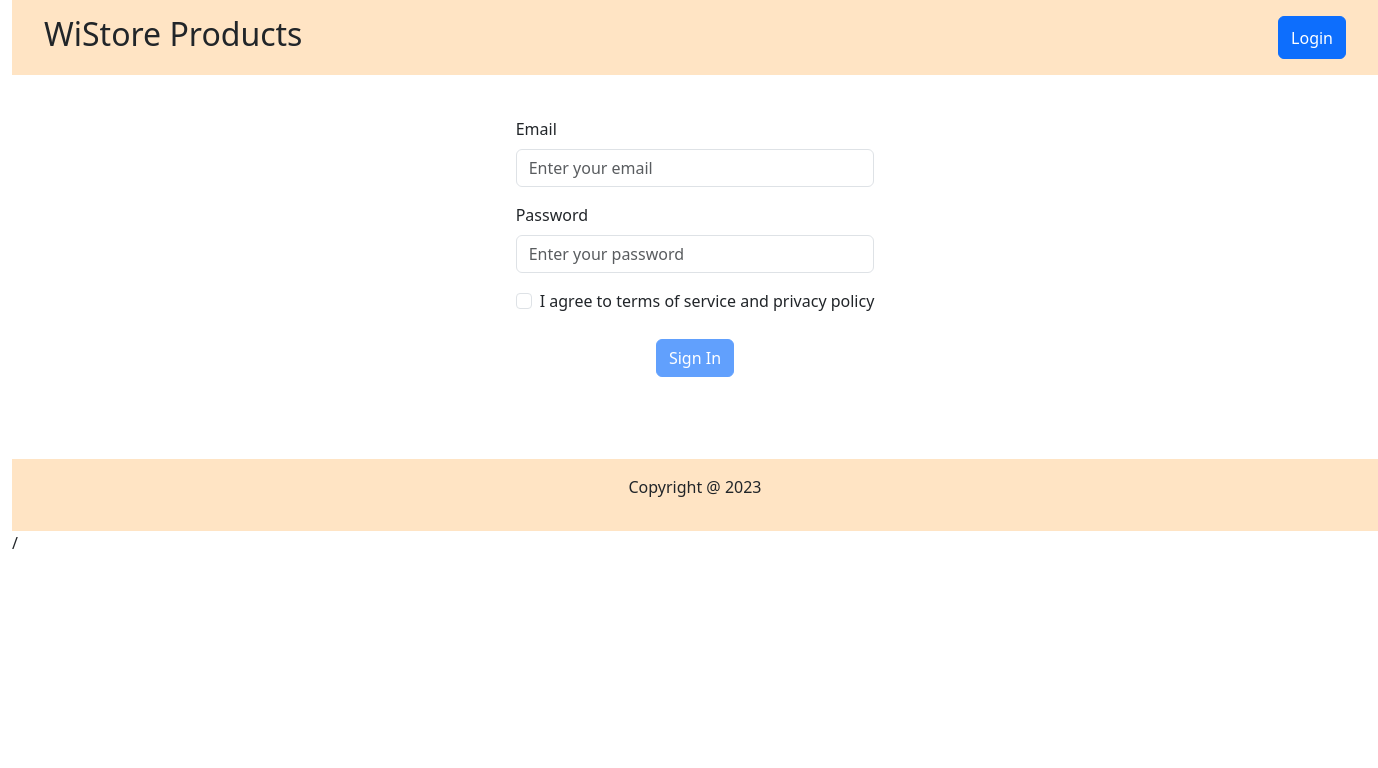
Test case: Input Hataları › Terms ilk önce check yapıp sonra checki kaldırınca buton disabled oluyor
Type "dsfdsf@sdfs.com" into the field with test id "email". click: (696, 168)
box: [516,149,875,187]
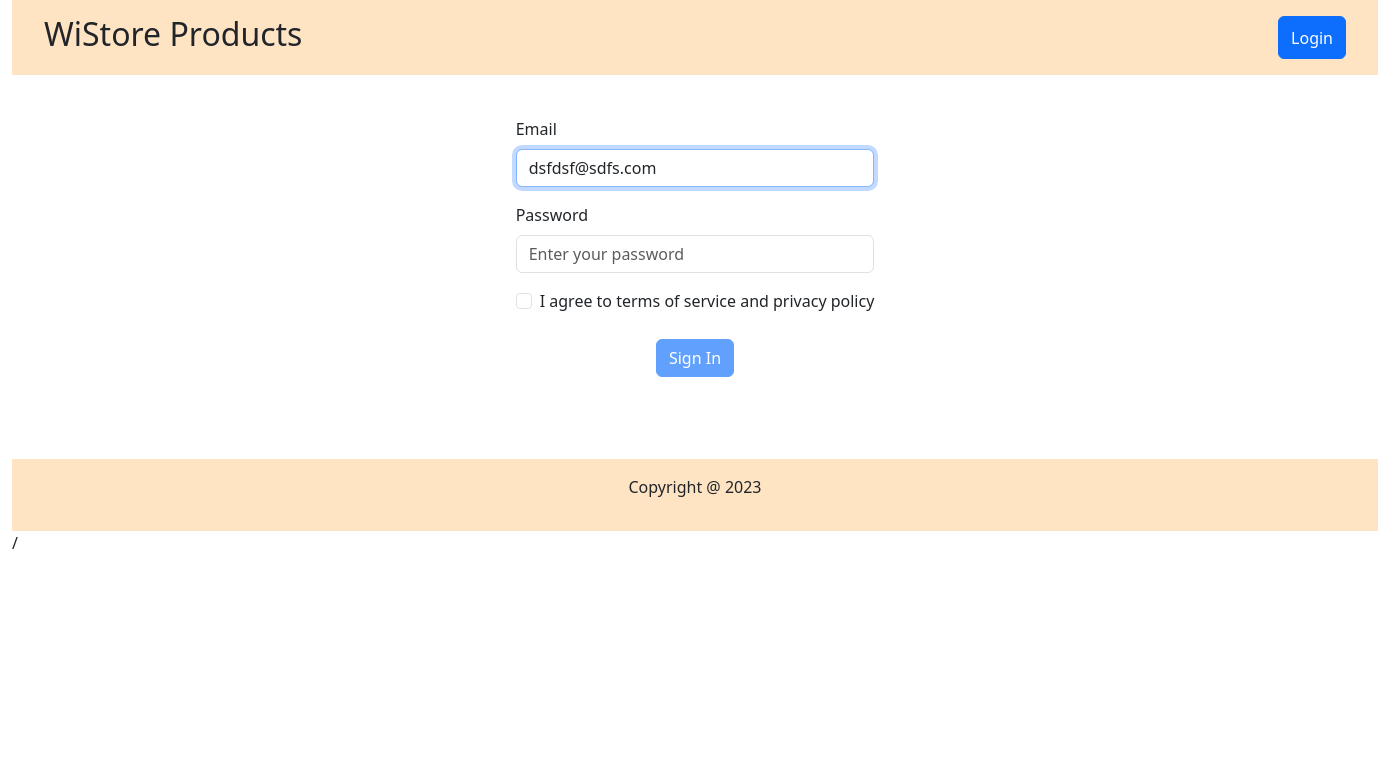
Type "1234" into the password field with test id "password". click: (696, 254)
box: [516,235,875,273]
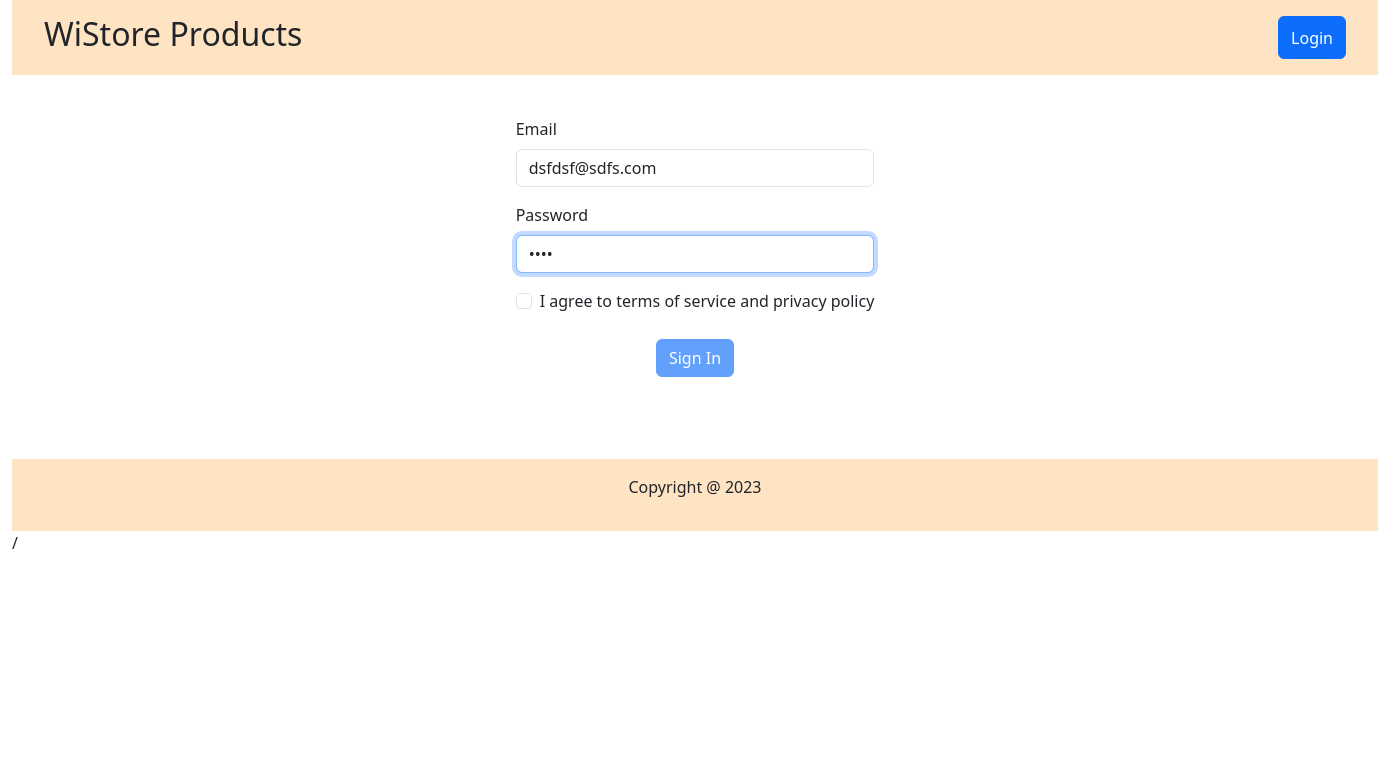
Check the checkbox with test id "terms". click: (524, 301)
box: [516,293,532,309]
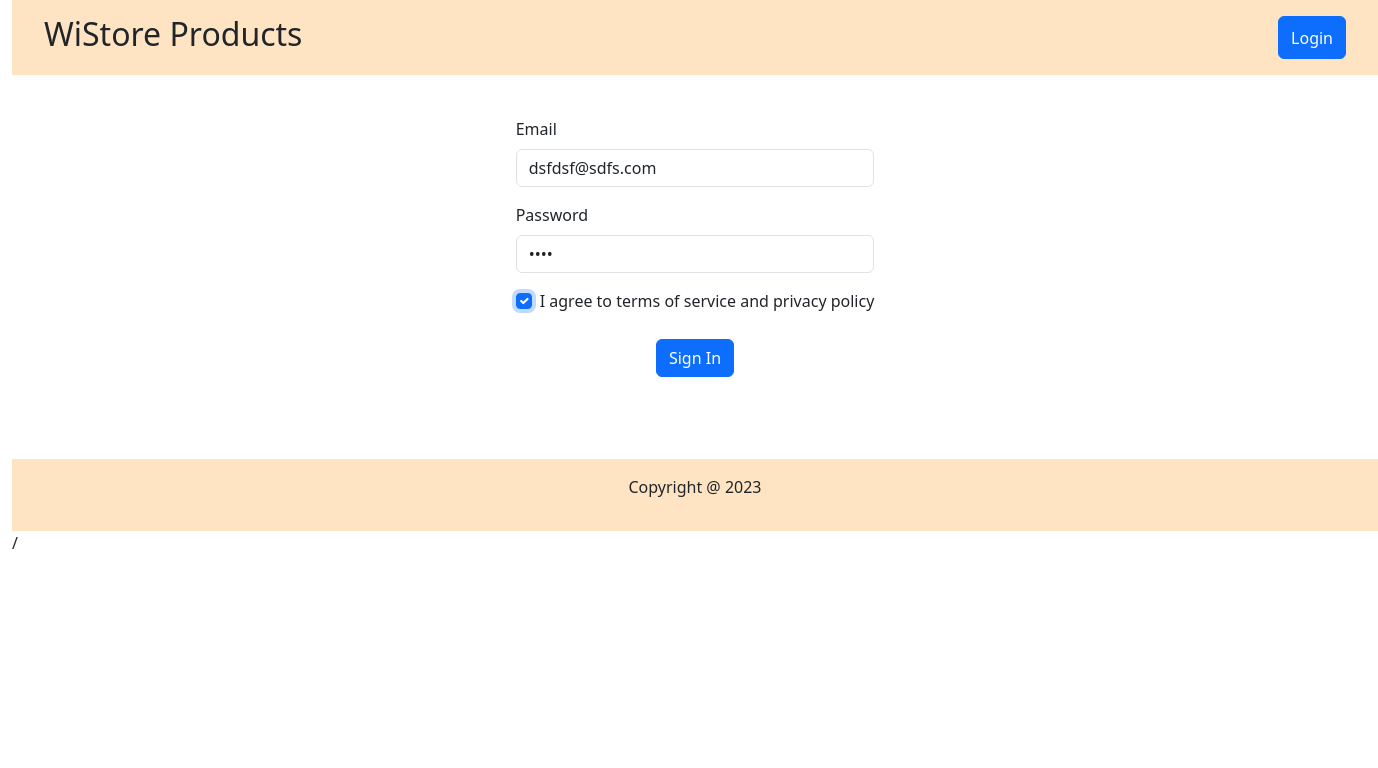
Uncheck the checkbox with test id "terms". click: (524, 301)
box: [516,293,532,309]
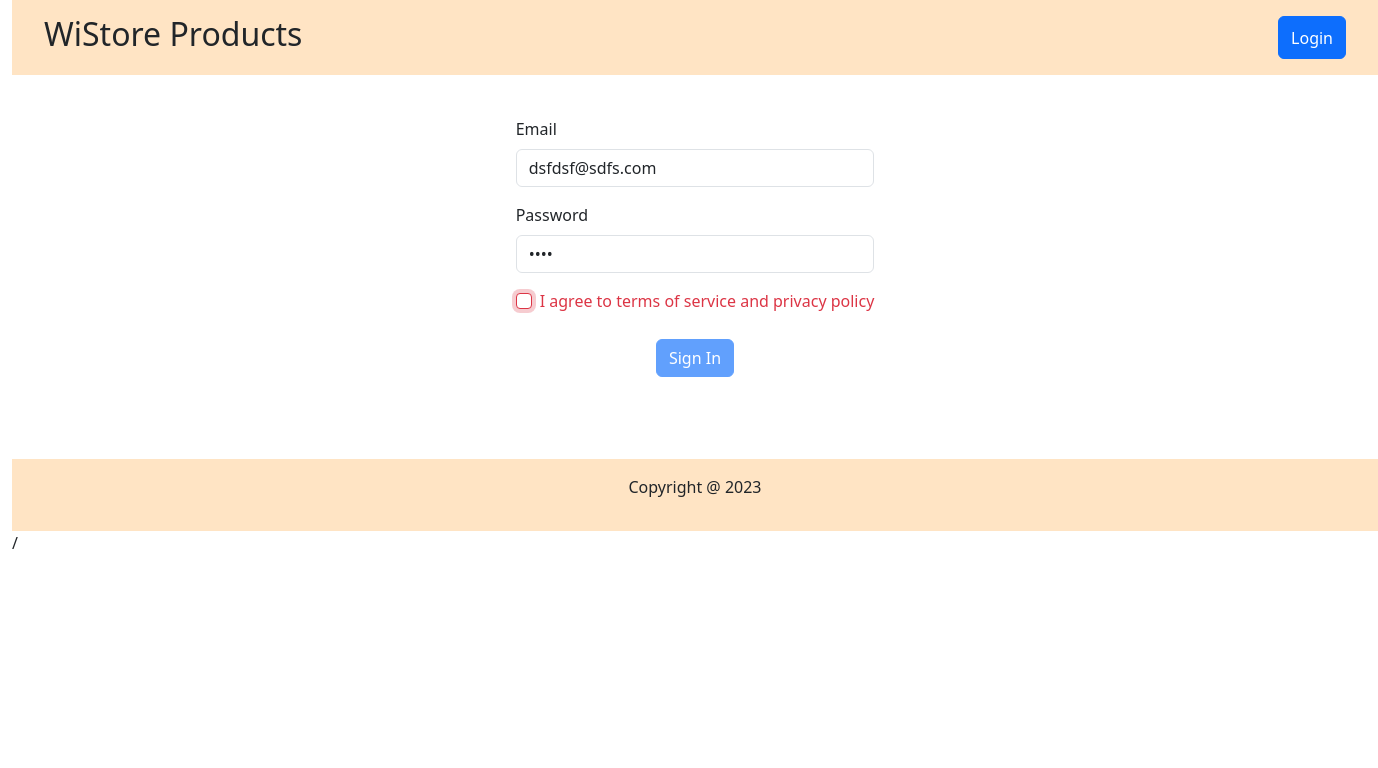
expect the button with test id "button" is disabled: met, box [656,339,734,377]
